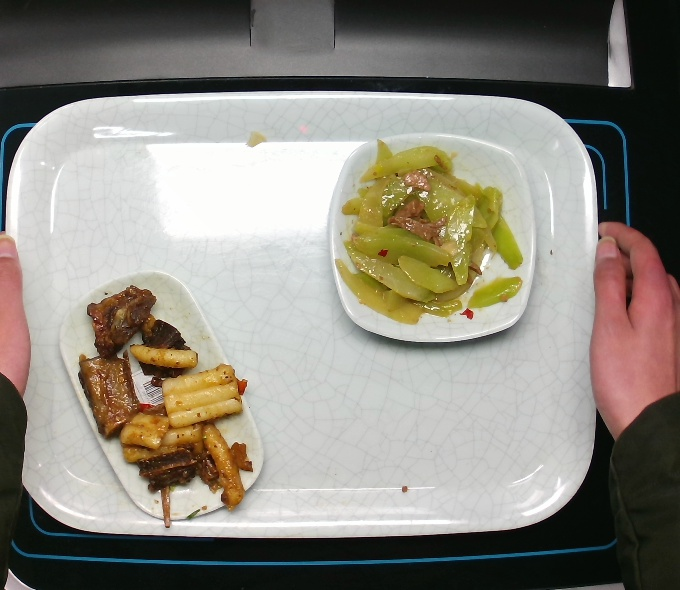wcq-NianGaoZaiPai: (73, 286, 252, 527)
wcq-WoSun: (337, 136, 530, 329)
